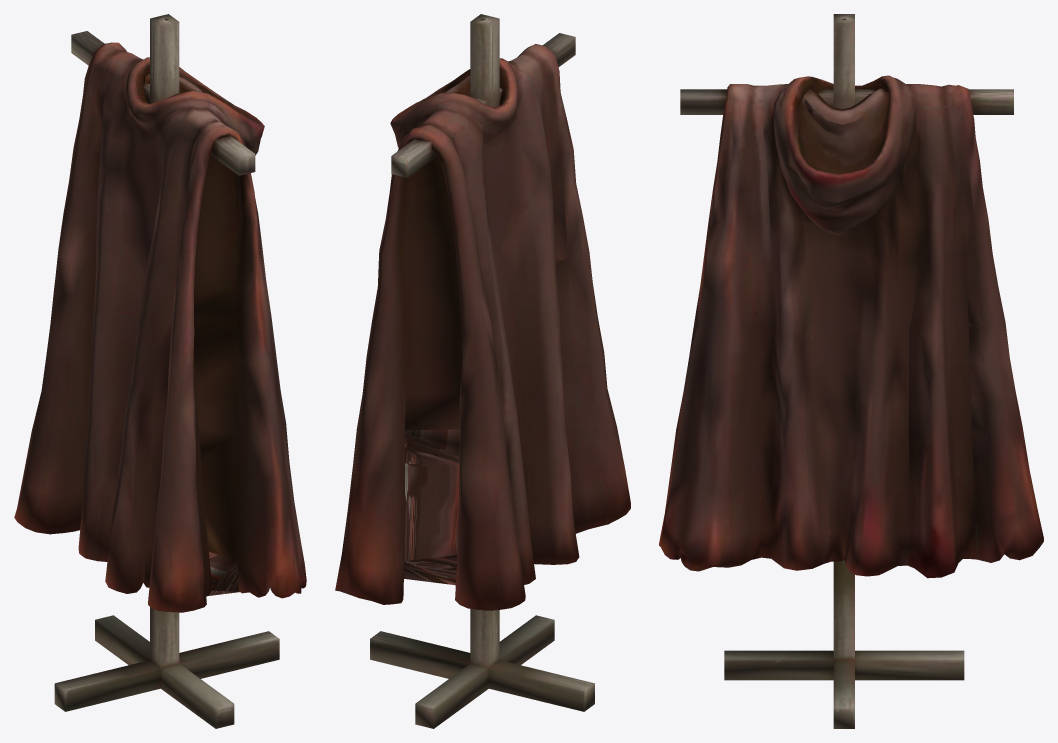
The model's file is ember_cloak.glb.
3 renders of one model, left to right at view 1: azimuth 30°, elevation 25°; view 2: azimuth 150°, elevation 25°; view 3: azimuth 270°, elevation 25°, orthographic.
Visible parts, largest first — view 1: model; view 2: model; view 3: model.
Boxes of the visible parts, bbox=[...] form: model: bbox=[14, 14, 306, 728]; model: bbox=[335, 14, 630, 728]; model: bbox=[659, 14, 1043, 728].
Bounding box in the file's own units: 0.3386 × 1 × 0.5303.
1 material, 1 textured.
